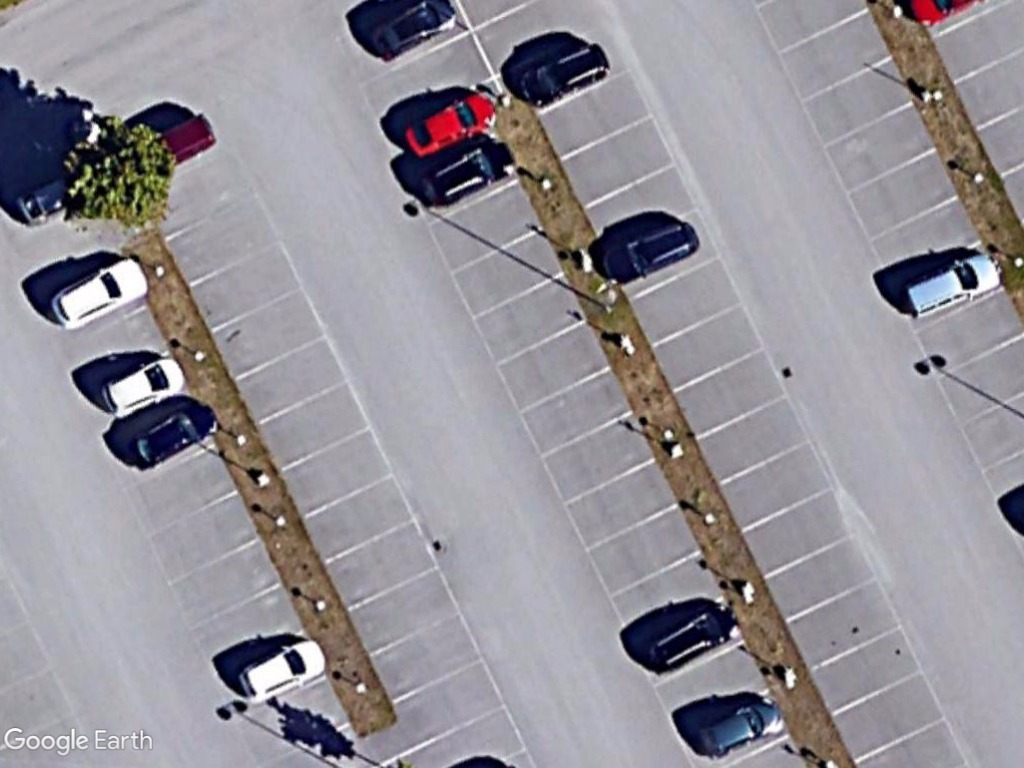car: (124, 396, 227, 480), (638, 601, 747, 677), (49, 252, 150, 333), (416, 133, 518, 212), (403, 86, 499, 163), (515, 38, 615, 111), (901, 247, 1003, 317), (598, 218, 701, 287), (690, 694, 789, 764), (236, 633, 329, 704), (98, 353, 187, 419)
